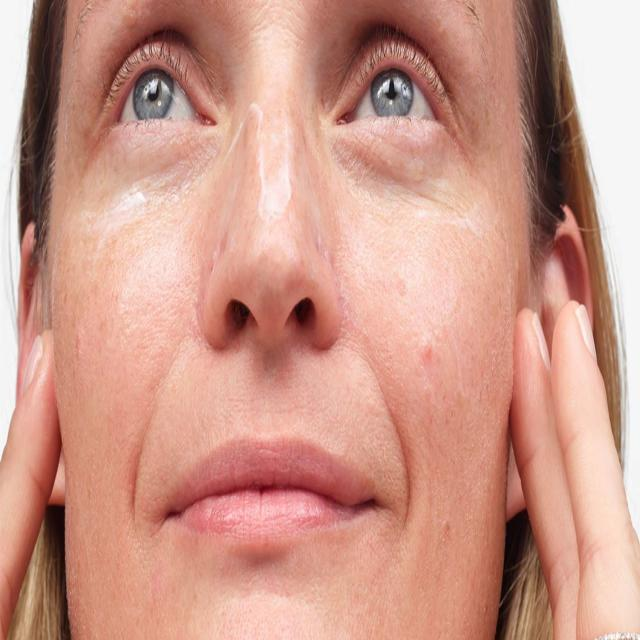Dry-Skin: (322, 125, 510, 271), (234, 79, 306, 254), (110, 144, 207, 236)
